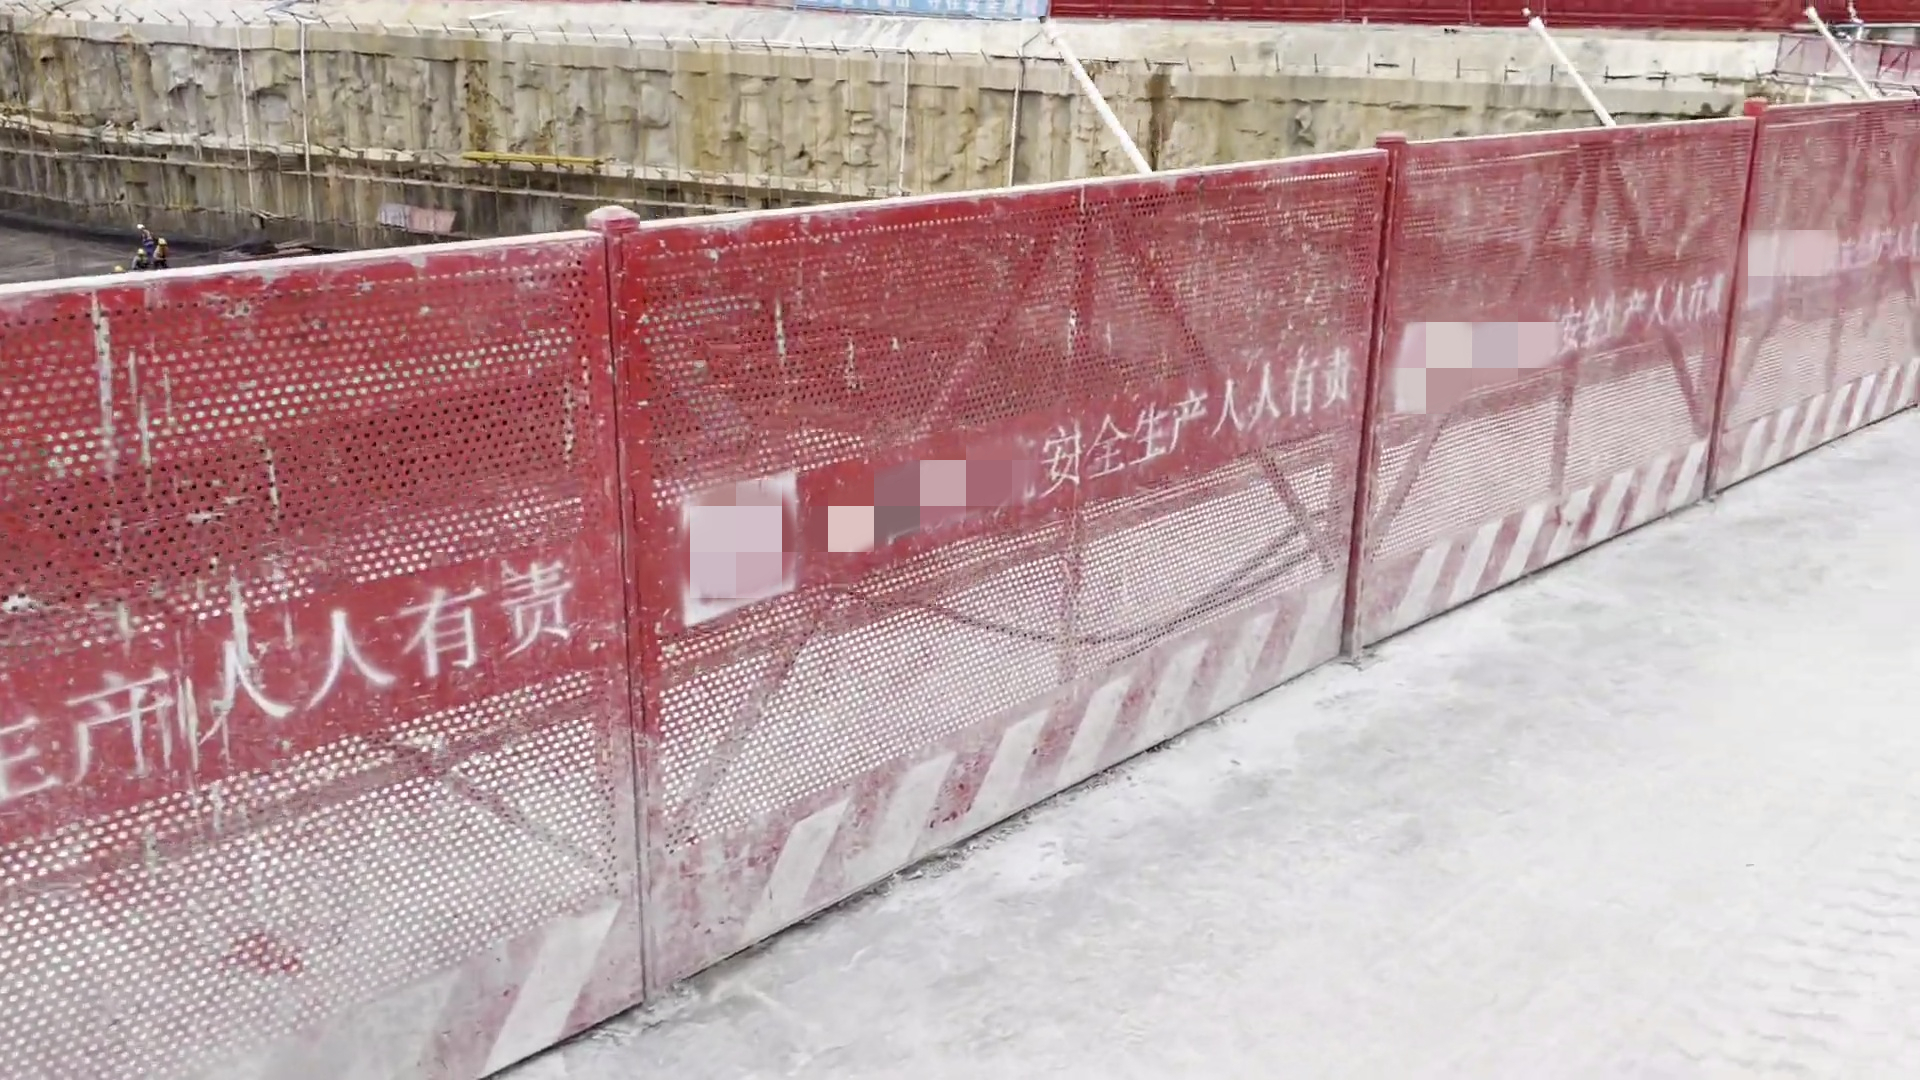fence: (1, 105, 1920, 1077)
slogan: (12, 560, 584, 820), (1055, 342, 1364, 495), (1563, 272, 1730, 357), (1828, 222, 1920, 278)
